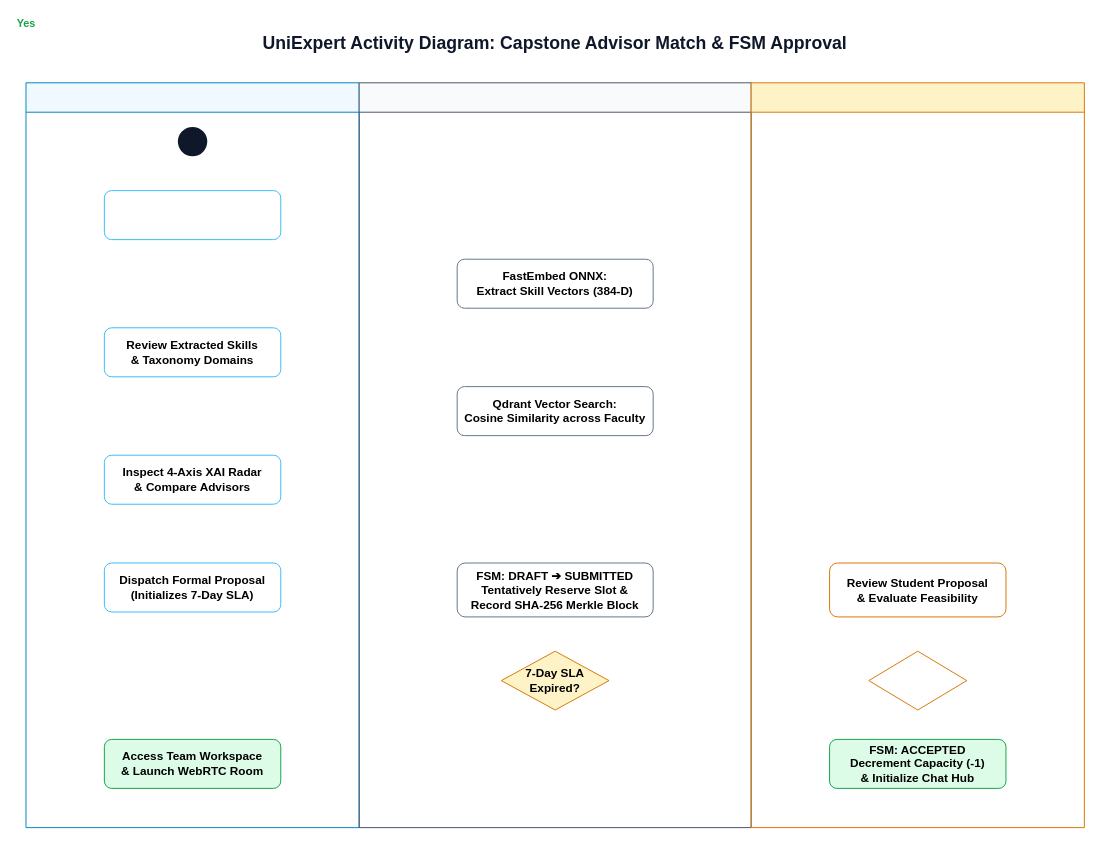
Some shapes in this 1102 by 845 pixel diagram are drawn without their labels. The box of each missing label's shape, as (x1, y1, x2, y2) in pixels:
Accept Proposal?: (868, 650, 967, 710)
Enter Problem Statement (≥ 50 words narrative): (103, 190, 281, 240)
Faculty Advisor / Coordinator: (750, 82, 1084, 828)
Student Project Lead: (25, 82, 359, 828)
UniExpert AI & Matching Platform: (358, 82, 751, 828)
